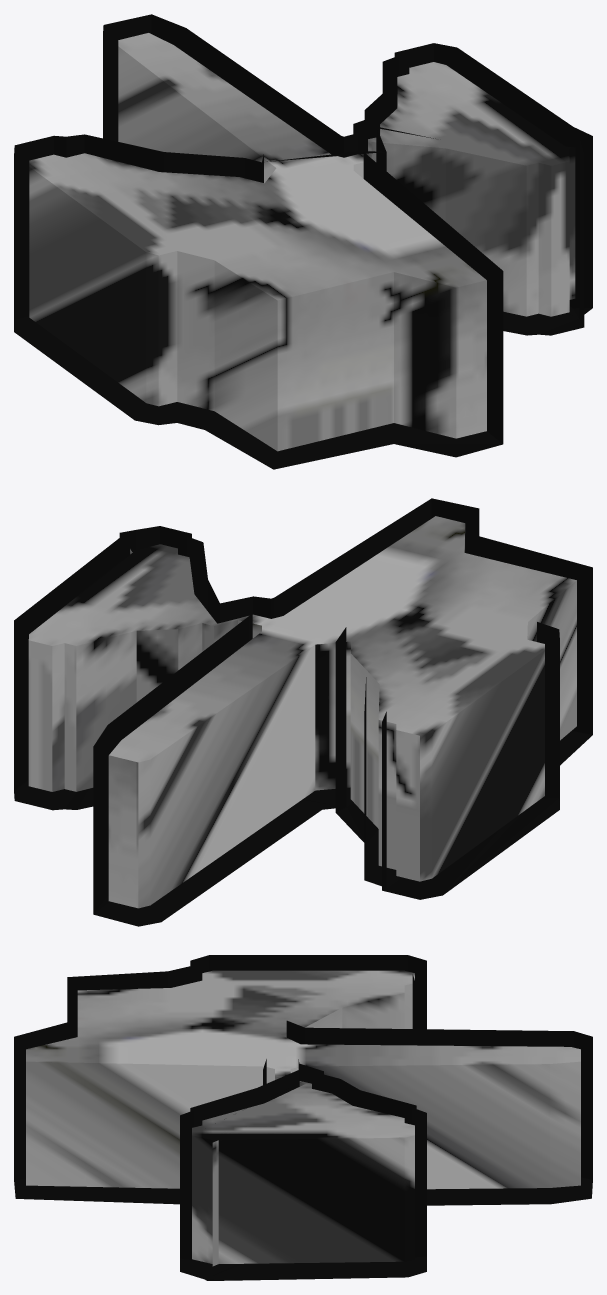
Rendered from Building_Turret_Mortar_Things_Building_Security_TurretMortar_Base.glb.
3 views of the same model, one above another, from view 1: azimuth 30°, elevation 25°; view 2: azimuth 150°, elevation 25°; view 3: azimuth 270°, elevation 25° (orthographic). The views are drawn at different scales.
Visible parts, largest first — view 1: Body, Outline; view 2: Body, Outline; view 3: Body, Outline.
Part boxes in pixels (left/top/right/bottom): Body: left=29, top=33, right=575, bottom=451; Outline: left=14, top=14, right=592, bottom=469; Body: left=28, top=516, right=576, bottom=908; Outline: left=14, top=498, right=592, bottom=926; Body: left=26, top=970, right=580, bottom=1266; Outline: left=14, top=955, right=592, bottom=1280.
Size of the model in its own units: 0.5822 by 0.2274 by 0.7784.
Materials: 2 (1 with a texture image).
